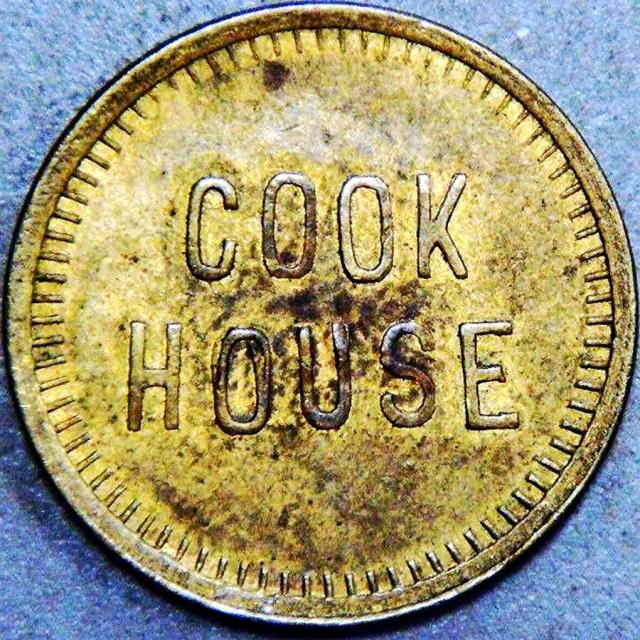Coin: (0, 0, 639, 628)
